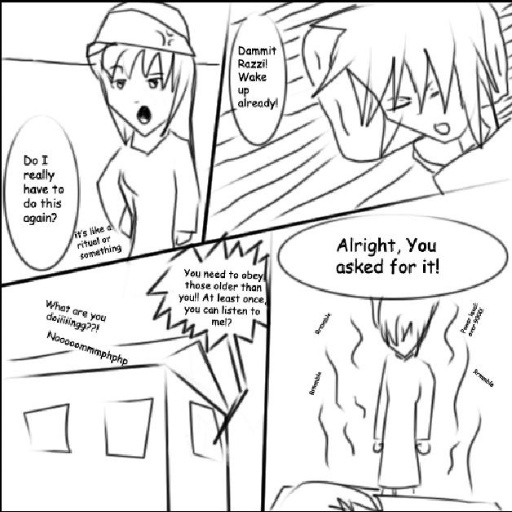hand: (119, 207, 134, 237), (177, 226, 194, 244), (415, 438, 431, 455), (371, 435, 383, 451)
